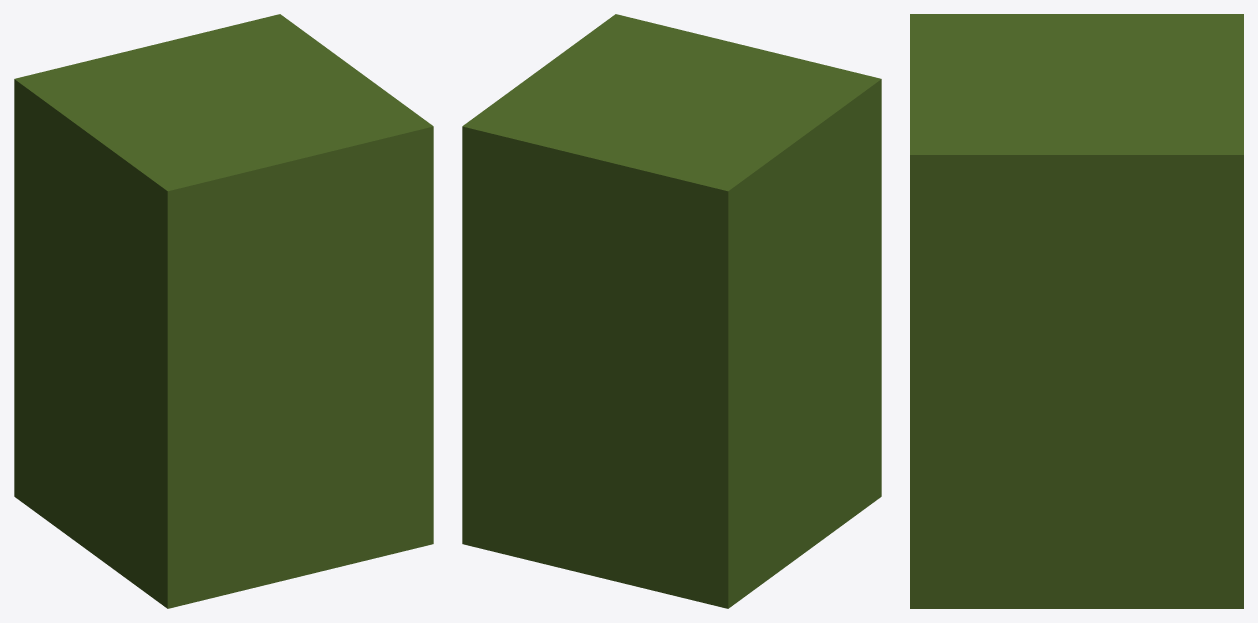
File: Char18-Leg1.gltf
3 renders of one model, left to right at view 1: azimuth 30°, elevation 25°; view 2: azimuth 150°, elevation 25°; view 3: azimuth 270°, elevation 25°, orthographic. The views are drawn at different scales.
Size of the model in its own units: 2 by 3 by 2.
